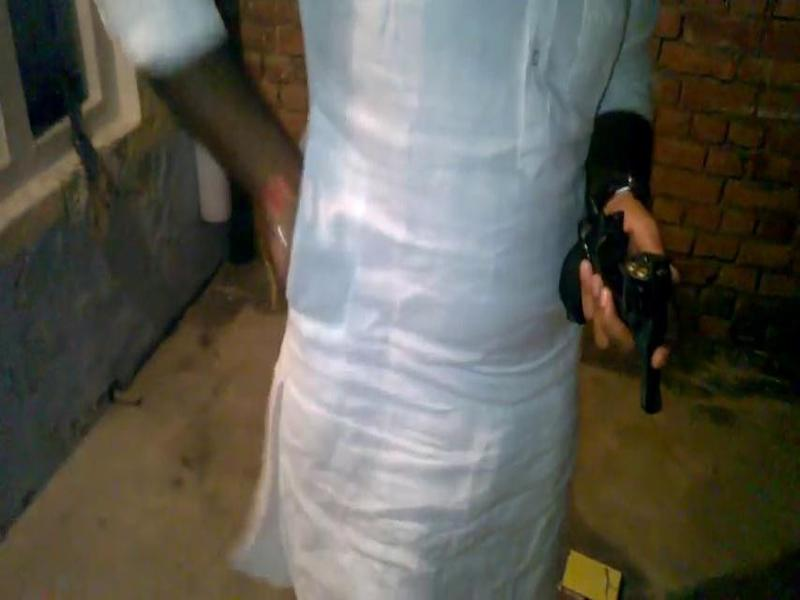Revolver: (556, 180, 698, 437)
